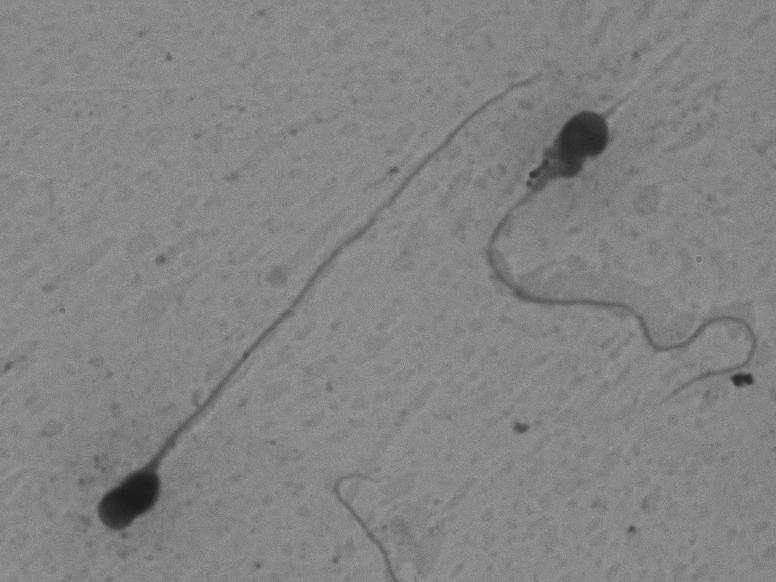Abnormal: (72, 54, 572, 548), (469, 97, 763, 437)
